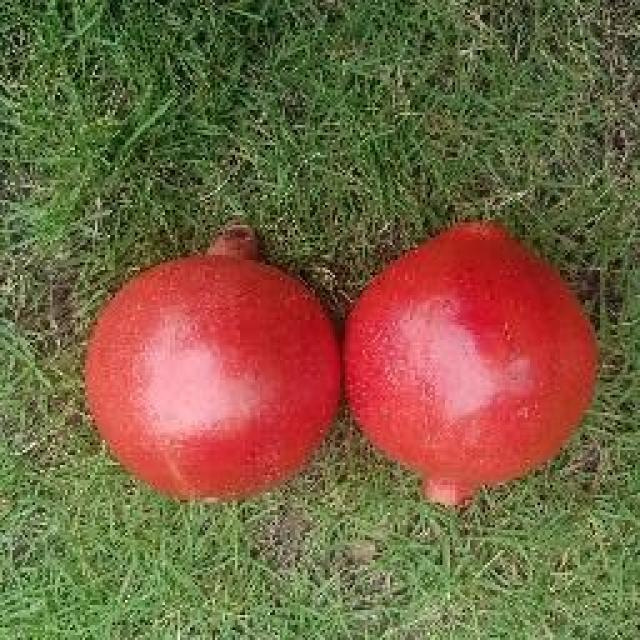Ripe: (339, 216, 596, 522), (80, 220, 340, 505)
